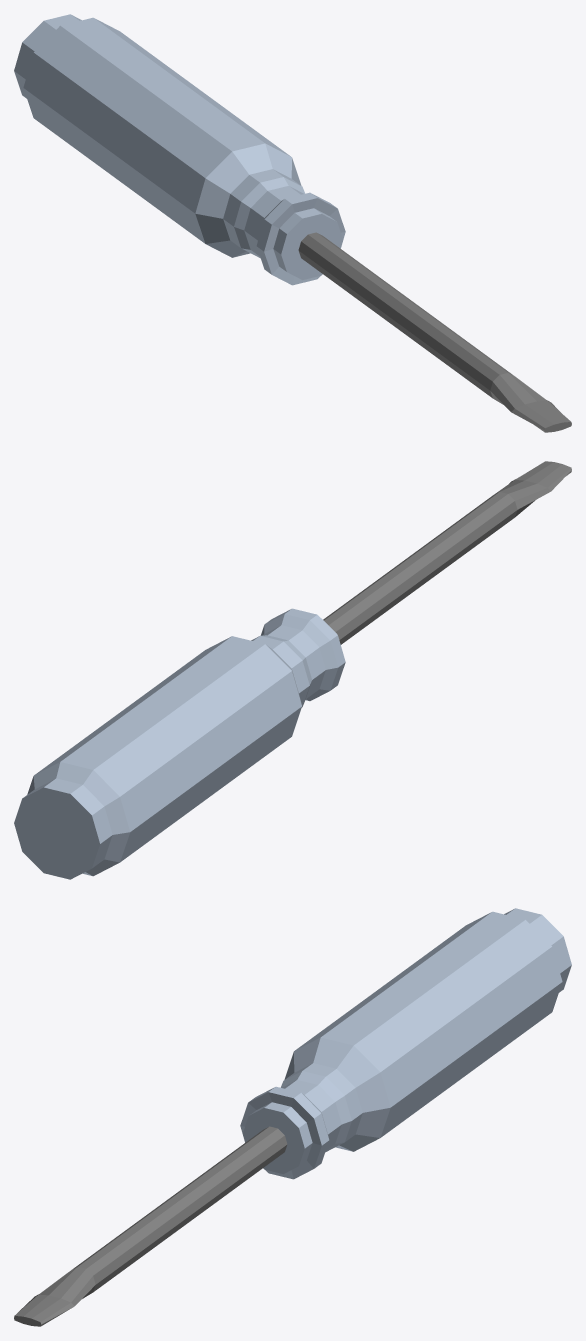
The model's file is driver.fbx.
The picture shows the model from 3 angles, top to bottom: view 1: azimuth 30°, elevation 25°; view 2: azimuth 150°, elevation 25°; view 3: azimuth 330°, elevation 25°; orthographic projection.
Parts seen in each view (by area): view 1: Cylinder.001, Cylinder; view 2: Cylinder.001, Cylinder; view 3: Cylinder.001, Cylinder.
Boxes of the visible parts, bbox=[...] form: Cylinder.001: bbox=[14, 14, 345, 285]; Cylinder: bbox=[298, 232, 571, 432]; Cylinder.001: bbox=[14, 608, 345, 879]; Cylinder: bbox=[323, 461, 571, 644]; Cylinder.001: bbox=[240, 908, 571, 1179]; Cylinder: bbox=[14, 1126, 287, 1326].
Size of the model in its own units: 41.73 by 39.69 by 339.
